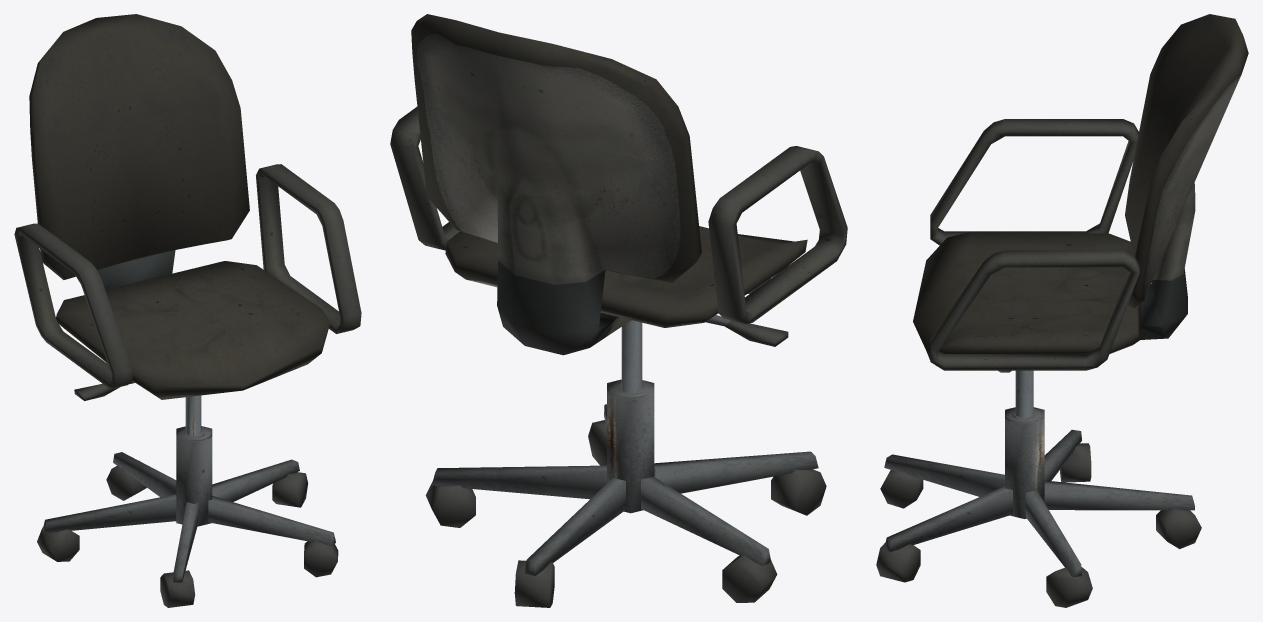
Rendered from chair_operations.obj.
3 views of the same model, side by side, from view 1: azimuth 30°, elevation 25°; view 2: azimuth 150°, elevation 25°; view 3: azimuth 270°, elevation 25° (orthographic). The views are drawn at different scales.
Size of the model in its own units: 1.34 by 2.22 by 1.48.
1 material, 1 textured.
